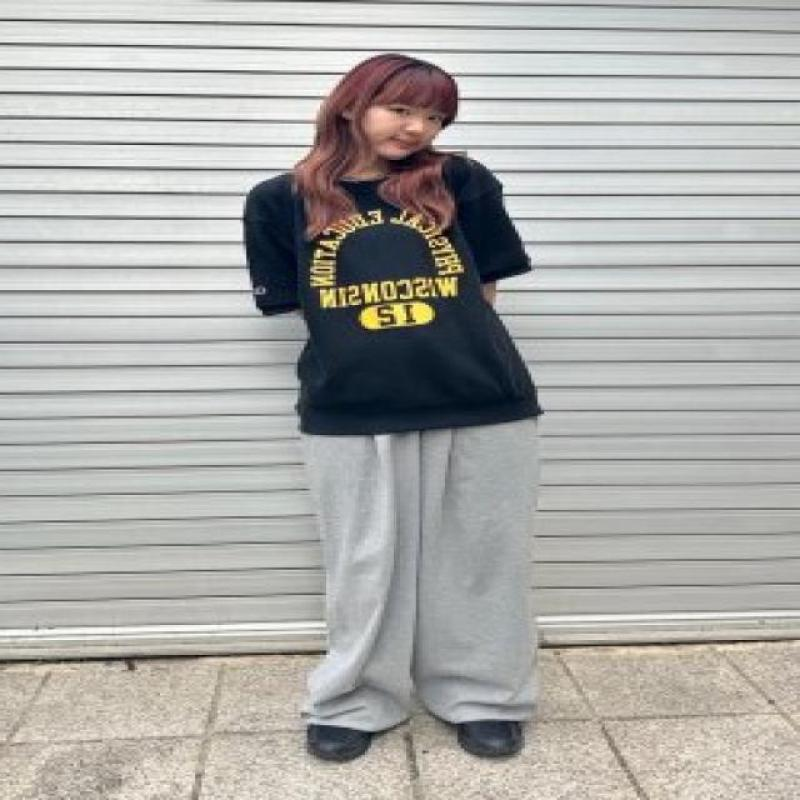short sleeve shirt: (238, 150, 544, 440)
trousers: (294, 413, 540, 732)
